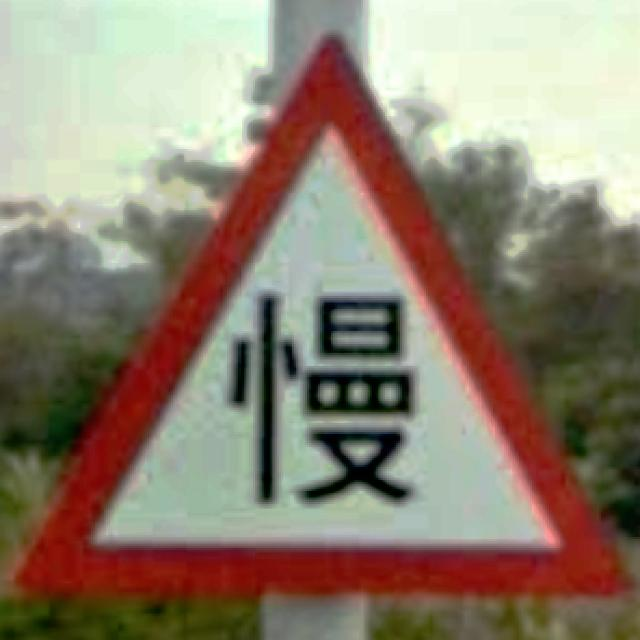slow: (9, 33, 638, 603)
